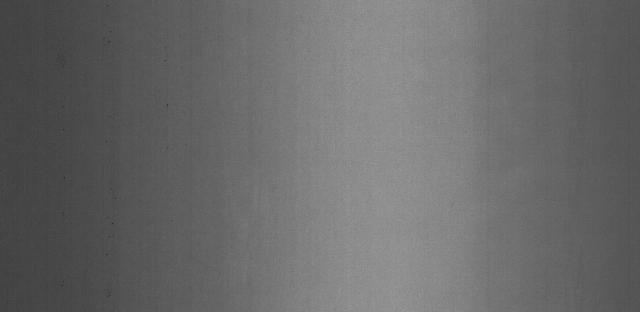inclusion: (99, 35, 122, 50)
